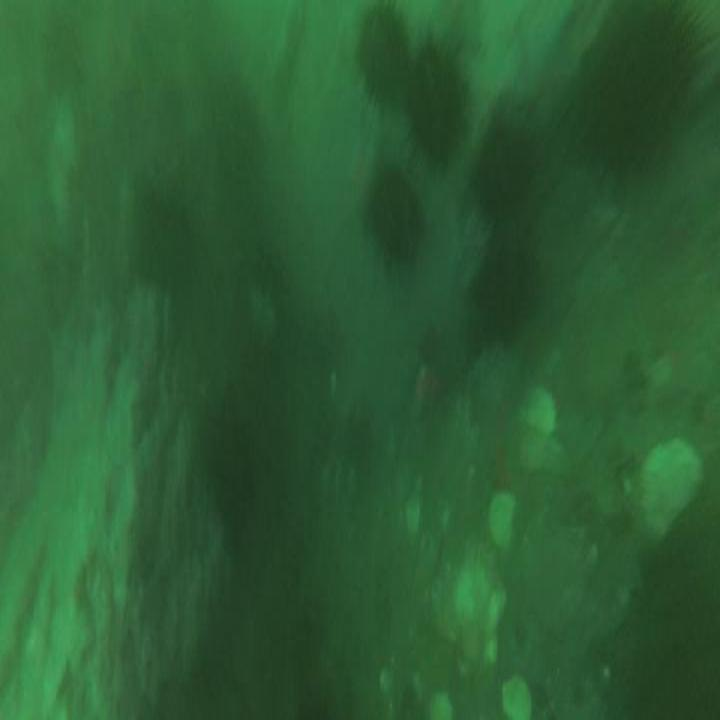echinus: (581, 3, 698, 178), (478, 235, 534, 334), (206, 411, 256, 521), (477, 122, 533, 220), (413, 50, 463, 151), (356, 9, 407, 107), (137, 201, 192, 290), (368, 167, 417, 263)
scallop: (433, 538, 506, 674), (638, 439, 703, 544)
